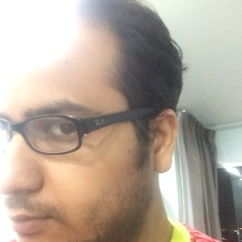glasses: (2, 111, 149, 148)
